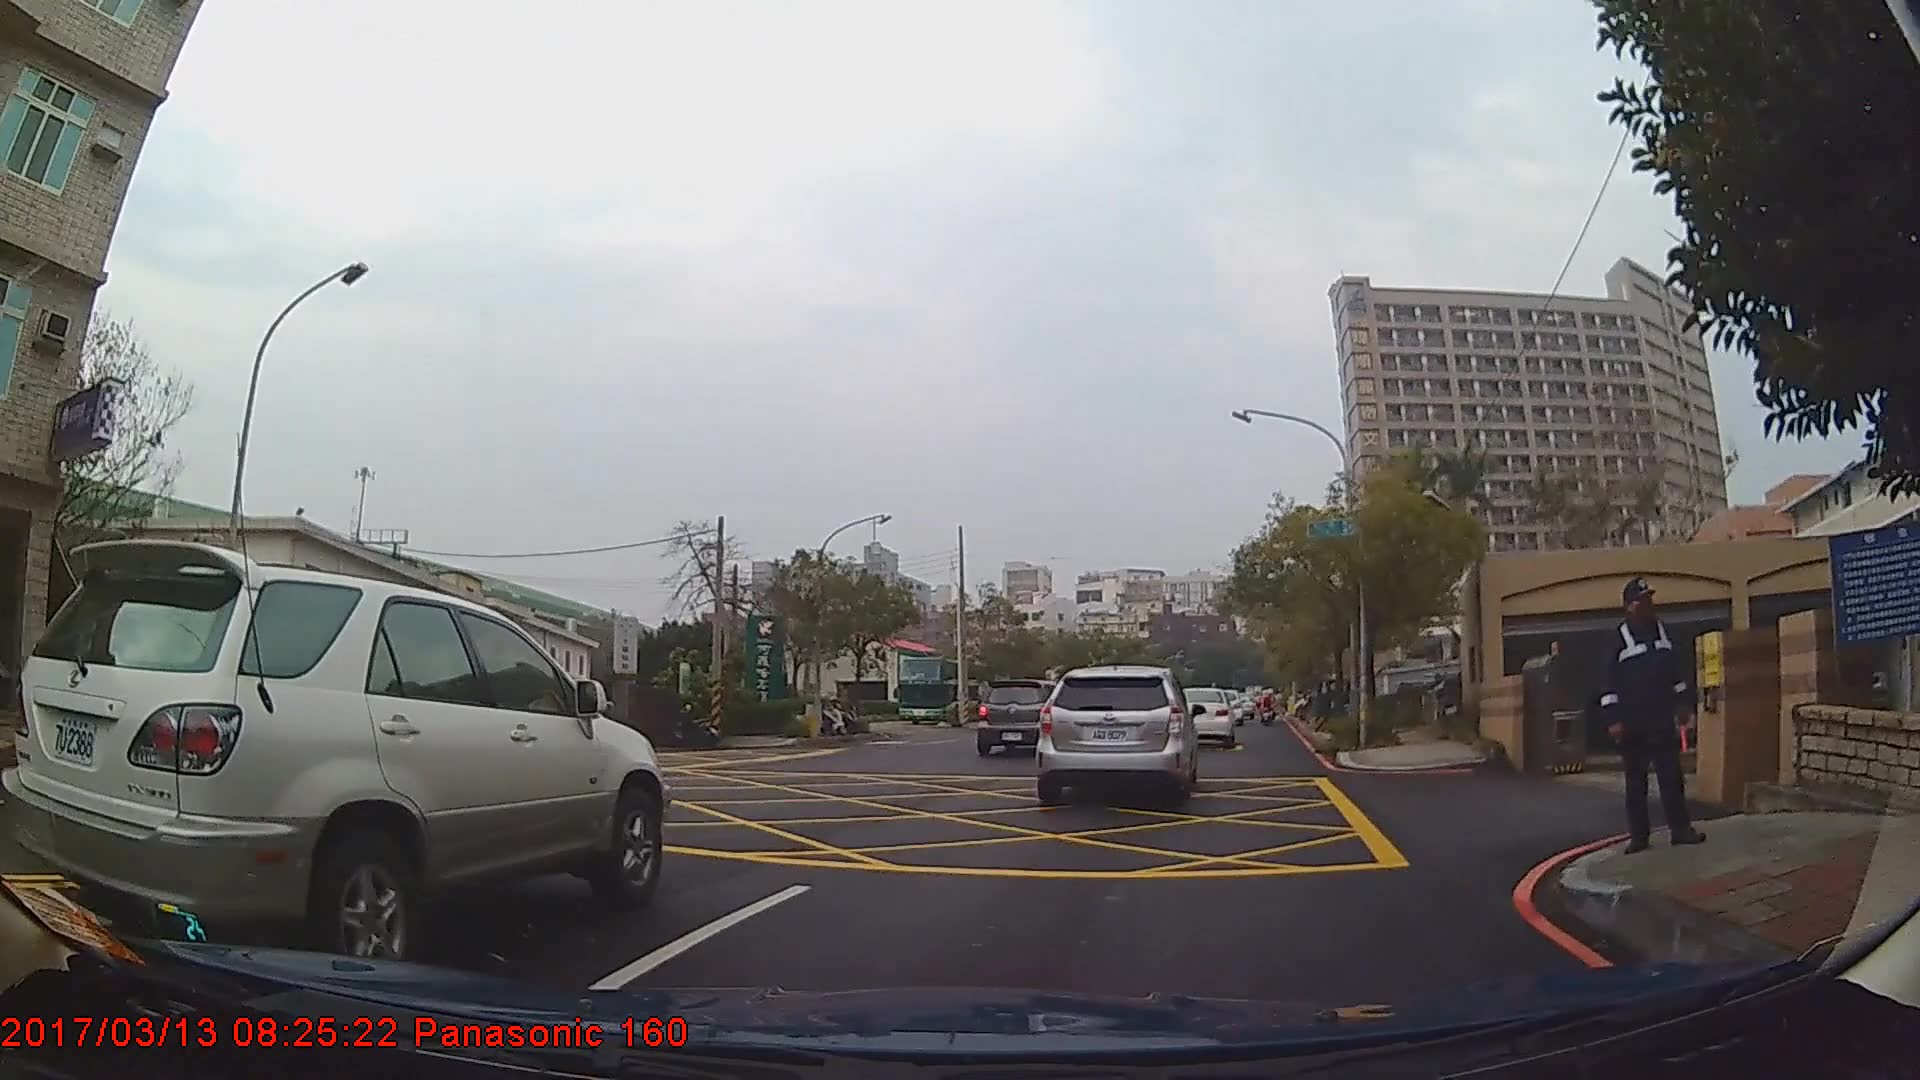pedestrian: (1608, 575, 1708, 855)
vehicle: (0, 539, 670, 975), (1033, 662, 1196, 807), (971, 680, 1074, 754), (892, 657, 992, 727), (1168, 687, 1235, 750)
